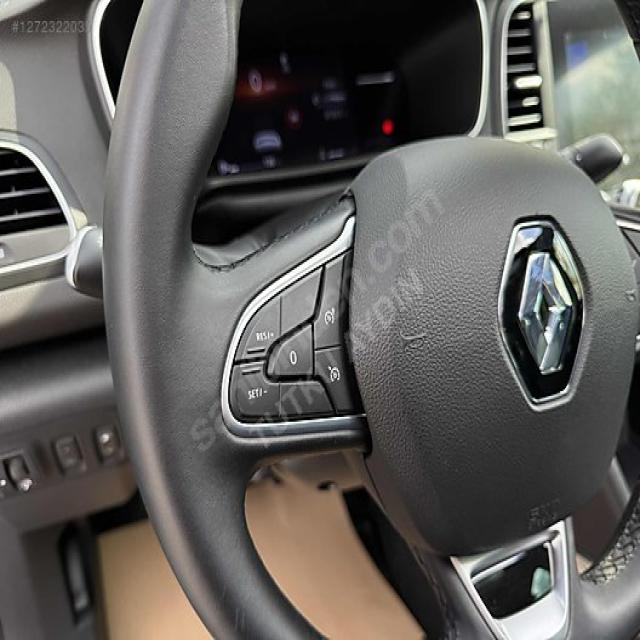renault: (516, 242, 570, 384)
